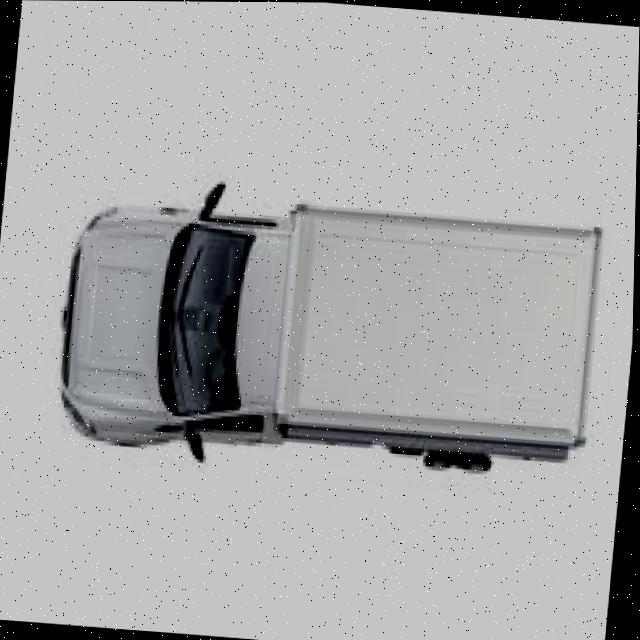truck: (30, 174, 602, 482)
